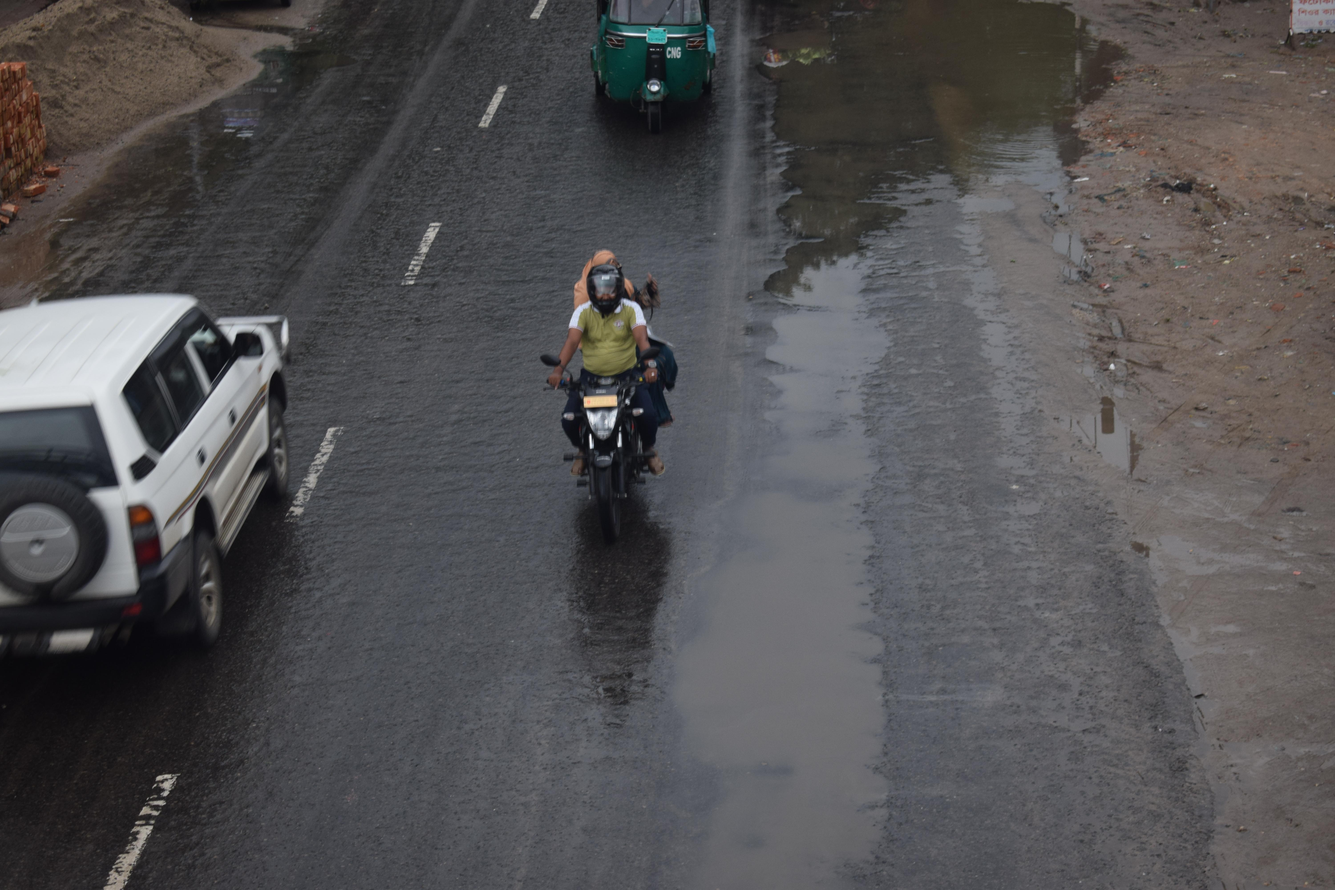Bike: (502, 217, 738, 564)
Car: (0, 247, 332, 676)
